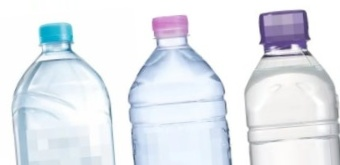plastic: (125, 14, 234, 165), (6, 21, 118, 165), (242, 13, 338, 164)
